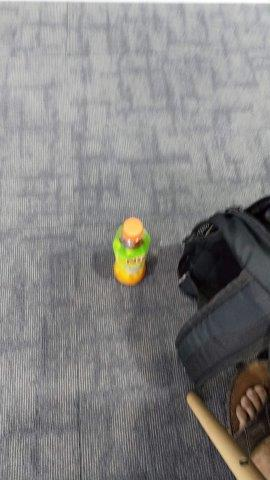botolplastik: (113, 217, 150, 286)
